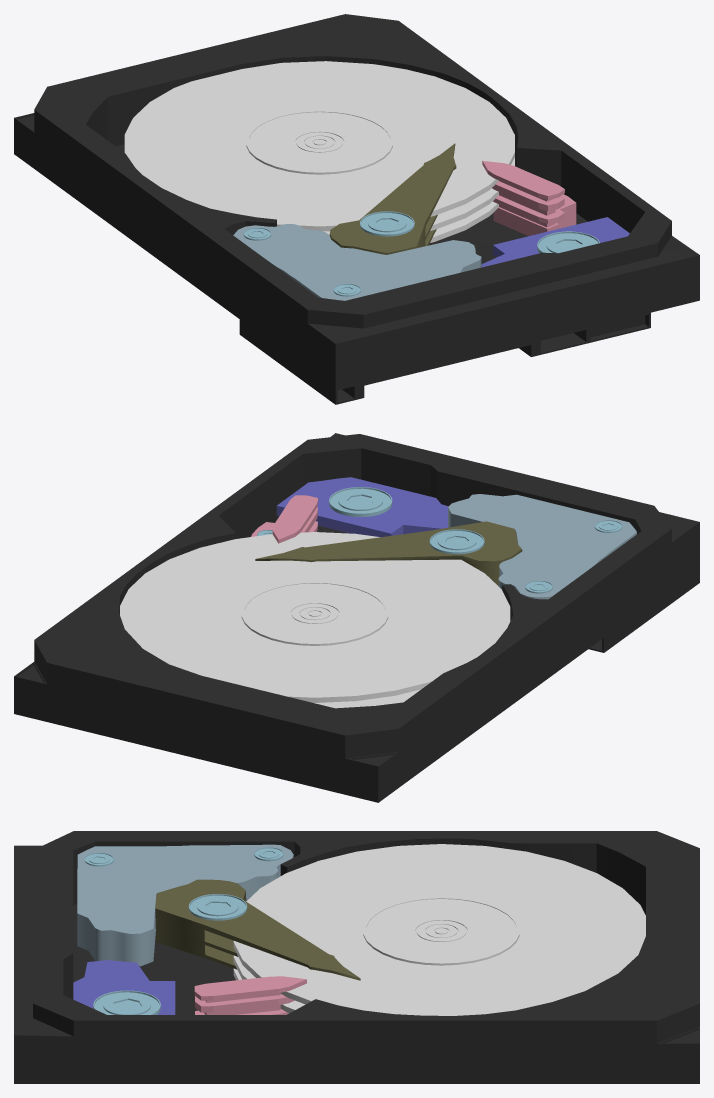
File: 3D_OBJ.HDD.FBX
The picture shows the model from 3 angles, top to bottom: view 1: azimuth 30°, elevation 25°; view 2: azimuth 150°, elevation 25°; view 3: azimuth 270°, elevation 25°; orthographic projection. The views are drawn at different scales.
Visible parts, largest first — view 1: HDD, Schijven, Box2, Naald, Mini_naald, Schroeven, Box1; view 2: HDD, Schijven, Box2, Naald, Box1, Schroeven, Mini_naald; view 3: HDD, Schijven, Box2, Naald, Mini_naald, Schroeven, Box1.
Part boxes in pixels (x1,y1,x2,y2): HDD: [14, 14, 699, 404]; Schijven: [124, 61, 514, 242]; Box2: [233, 224, 481, 300]; Naald: [329, 143, 456, 254]; Mini_naald: [482, 160, 576, 235]; Schroeven: [243, 211, 599, 296]; Box1: [481, 217, 629, 267]; HDD: [14, 433, 699, 802]; Schijven: [120, 532, 510, 708]; Box2: [448, 494, 636, 599]; Naald: [255, 521, 521, 585]; Box1: [276, 477, 448, 537]; Schroeven: [257, 487, 622, 593]; Mini_naald: [251, 495, 318, 543]; HDD: [14, 831, 699, 1083]; Schijven: [233, 844, 645, 1015]; Box2: [77, 844, 293, 966]; Naald: [155, 879, 360, 980]; Mini_naald: [194, 976, 306, 1014]; Schroeven: [84, 847, 283, 1014]; Box1: [73, 960, 175, 1014].
Bounding box in the file's own units: 10.71 × 2.14 × 16.37.
